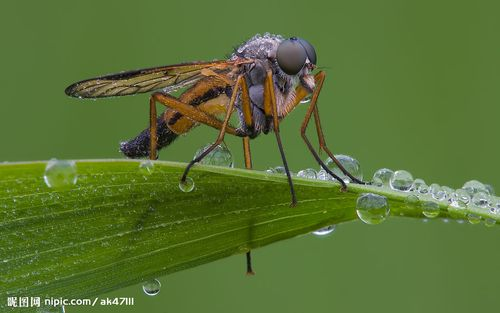Cecidomyiidae: (59, 34, 368, 204)
